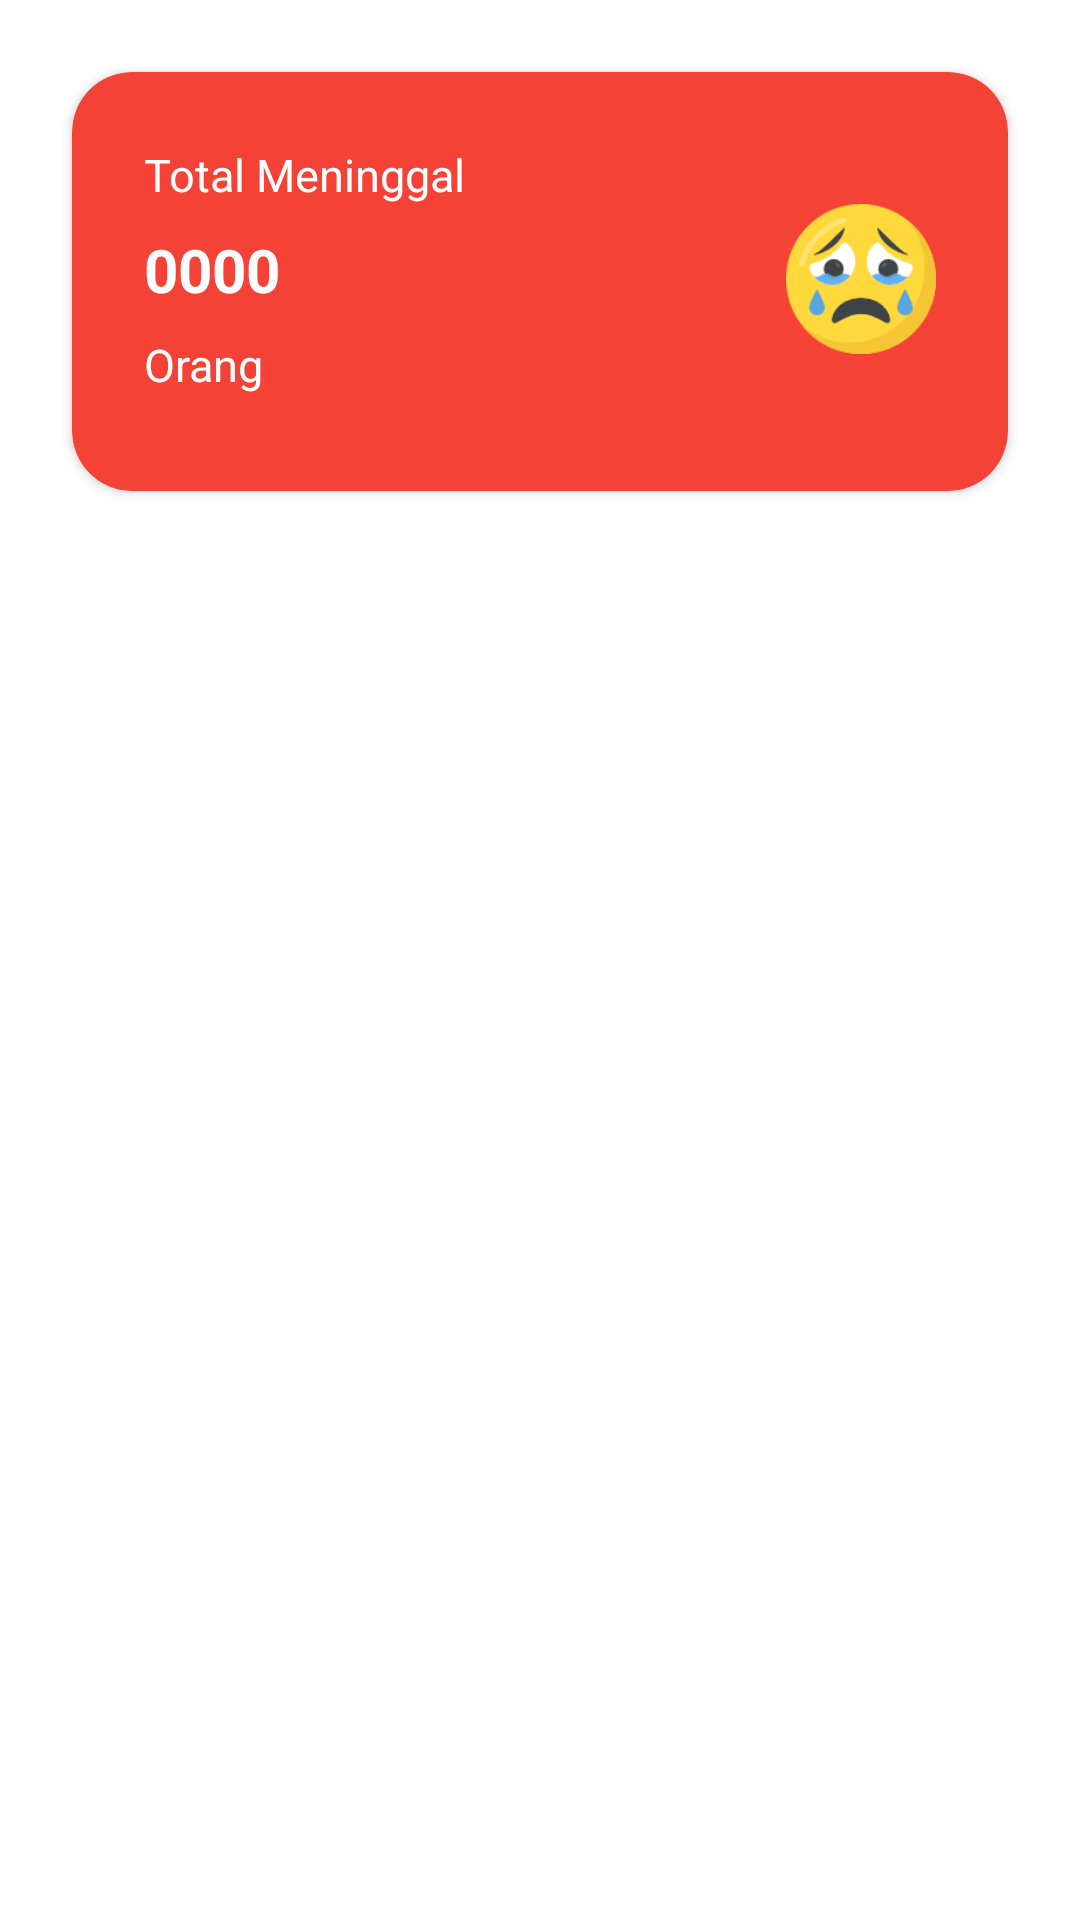

Point at icon controls on the screen. Image size 1080px×1920px, points as (x,y).
nangis: (861,279)
